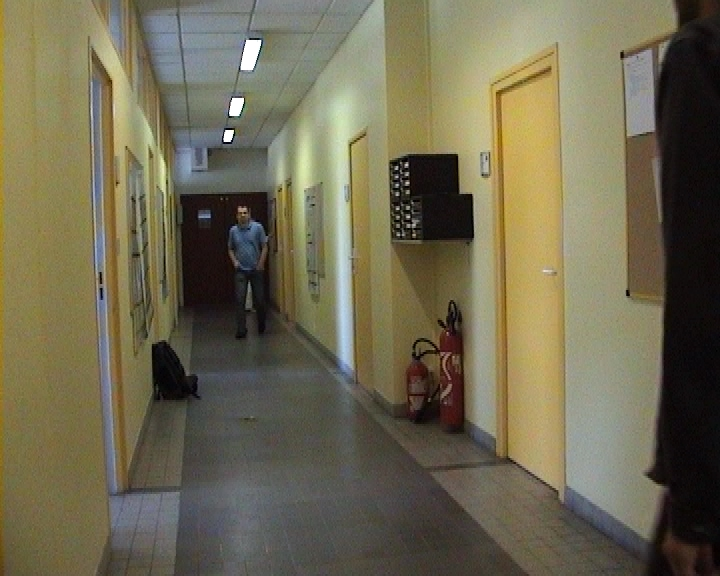leave bag unattended: (142, 335, 207, 412)
